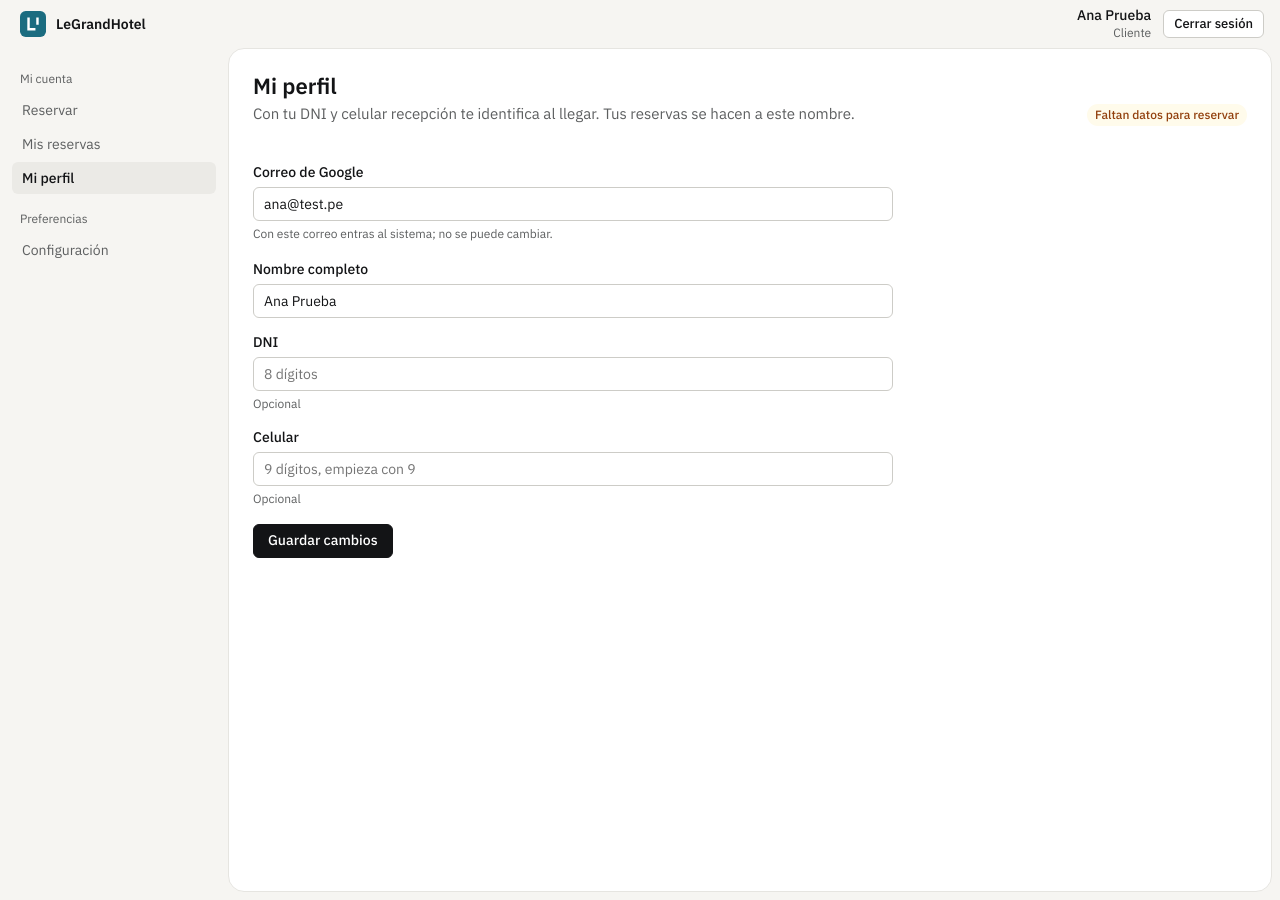
cliente con Google › Mi perfil muestra el correo de Google y deja agregar el DNI y el celular
This screenshot has width=1280, height=900.
Expected: the field labelled "Correo de Google" holds "ana@test.pe", [253,187,893,221]
Expected: the text "Faltan datos para reservar" is shown, [1087,104,1247,126]
Type "45678912" into the field labelled "DNI" at (573, 374), box [253,357,893,391]
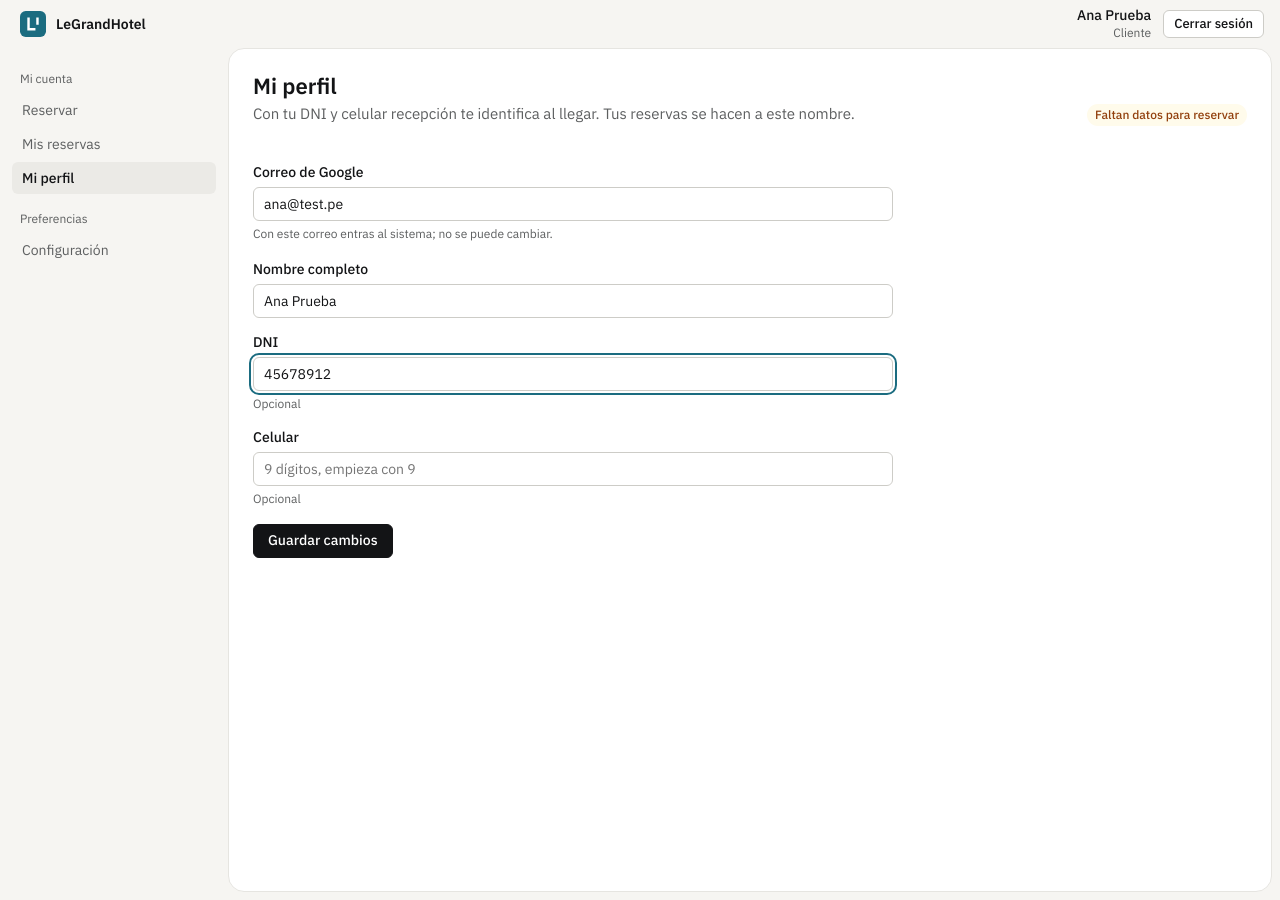
Type "987654321" into the field labelled "Celular" at (573, 469), box [253,452,893,486]
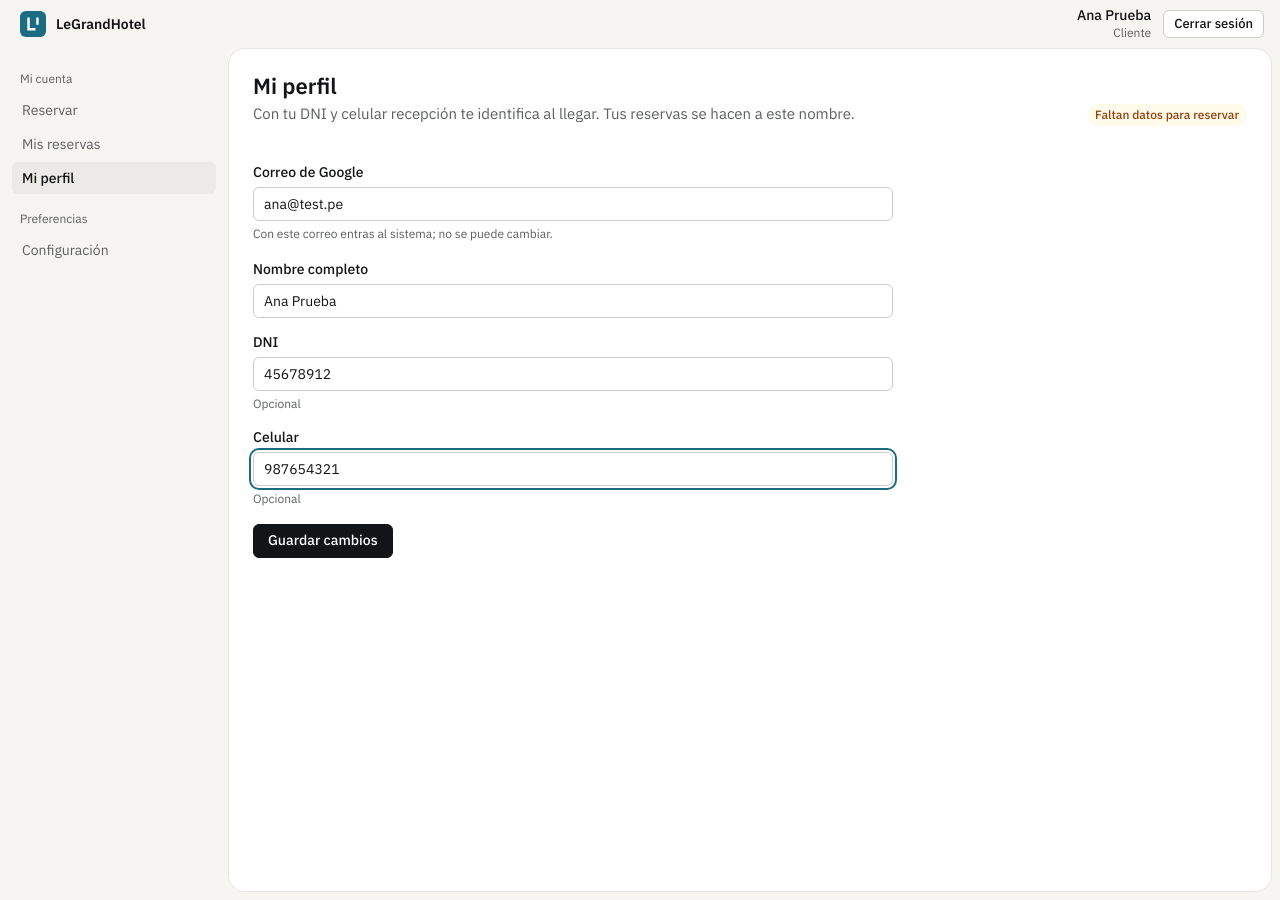
Click the button "Guardar cambios" at (323, 541), box [253,524,393,558]
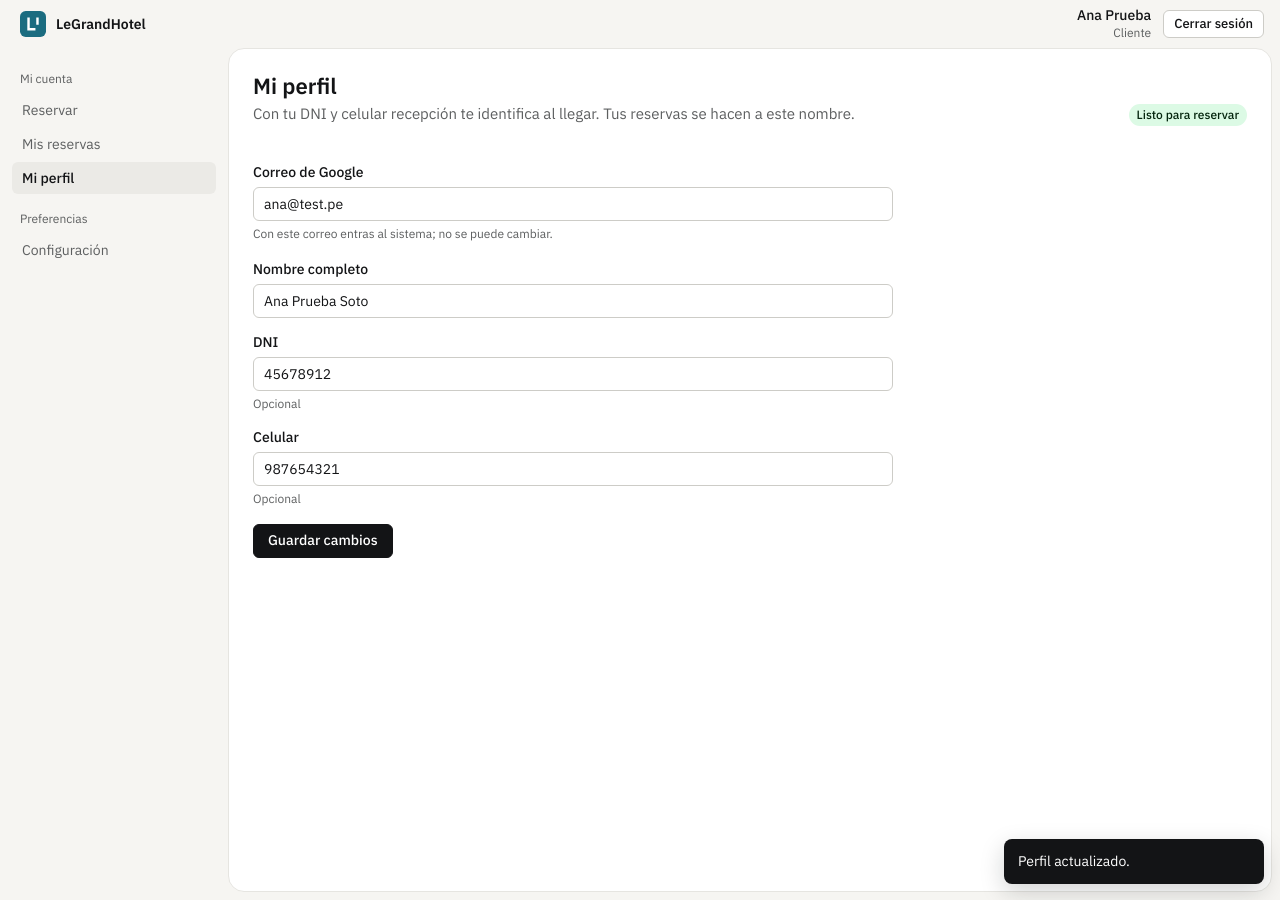
Result: the text "Listo para reservar" is shown at [1129,104,1247,126]
